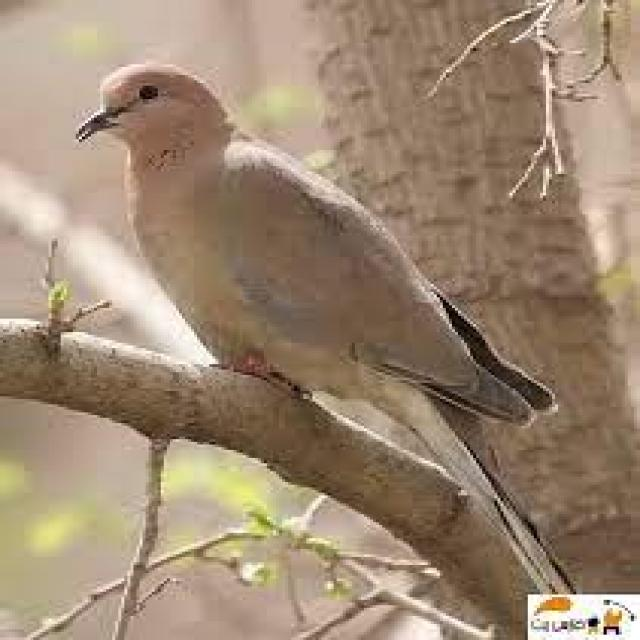bird: (71, 54, 588, 599)
